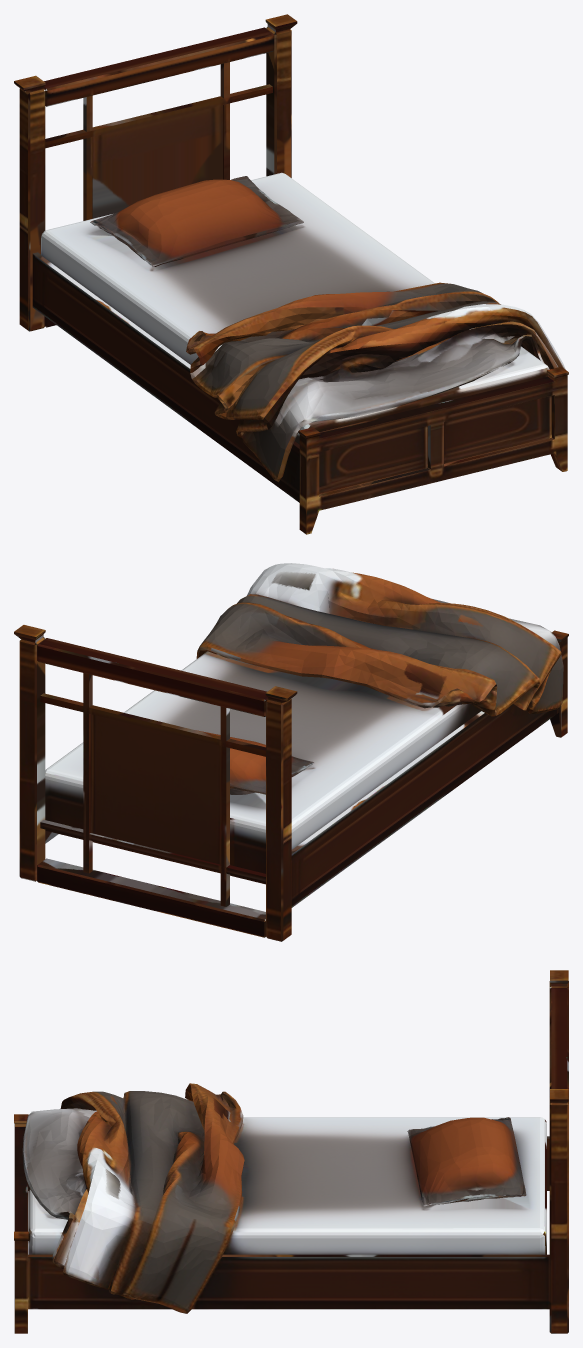
The model's file is edited_mesh.glb.
3 views of the same model, one above another, from view 1: azimuth 30°, elevation 25°; view 2: azimuth 150°, elevation 25°; view 3: azimuth 270°, elevation 25° (orthographic). The views are drawn at different scales.
Parts seen in each view (by area): view 1: solid_001_wire; view 2: solid_001_wire; view 3: solid_001_wire.
Boxes of the visible parts, <box> form: solid_001_wire: <box>14,14,568,534</box>; solid_001_wire: <box>14,563,568,941</box>; solid_001_wire: <box>14,970,568,1333</box>.
Bounding box in the file's own units: 1.29 × 0.9447 × 2.
1 material, 1 textured.
